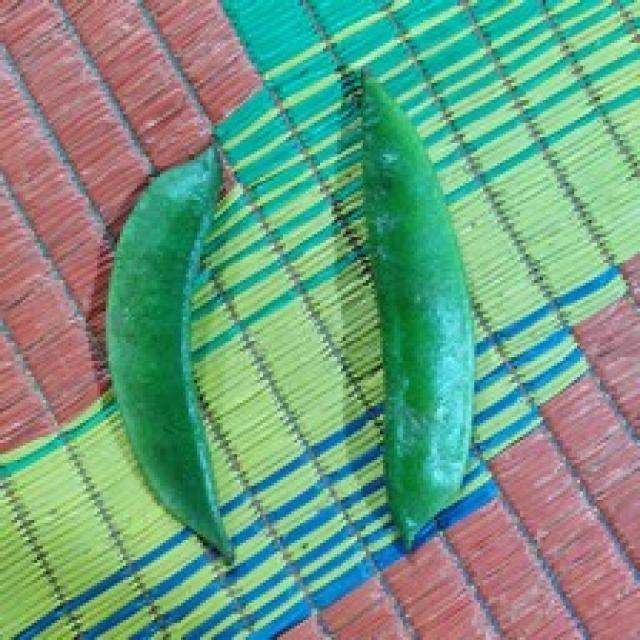Bean: (343, 63, 474, 551), (103, 143, 234, 563)
